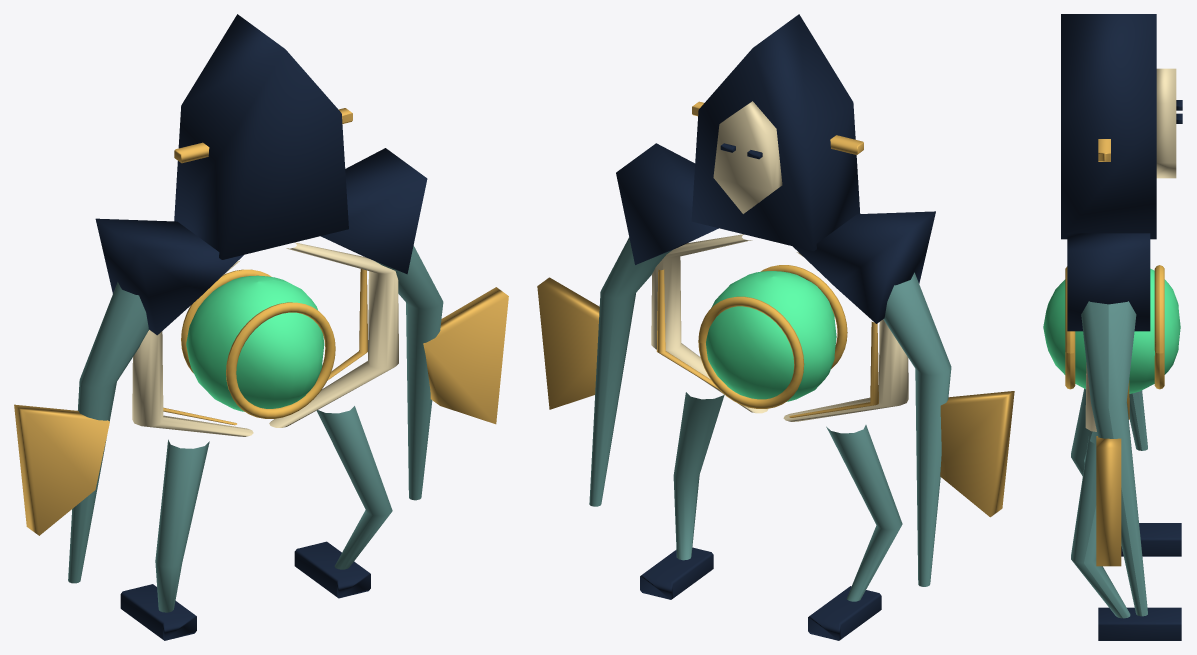
File: boss_2.glb
The picture shows the model from 3 angles, left to right: view 1: azimuth 30°, elevation 25°; view 2: azimuth 150°, elevation 25°; view 3: azimuth 270°, elevation 25°; orthographic projection. The views are drawn at different scales.
Visible parts, largest first — view 1: Hood, LanternShoulder (×2), HookBlade (×2), GlassCore, HalberdArm (×2), LongShin (×2), OpenRib (×2), Hoof (×2), GiltOrbRim (×2), GiltRib; view 2: Hood, LanternShoulder (×2), HalberdArm (×2), HookBlade (×2), GlassCore, LongShin (×2), OpenRib (×2), Mask, Hoof (×2), GiltOrbRim (×2), GiltRib (×2); view 3: Hood, HalberdArm (×2), LanternShoulder, GlassCore, LongShin (×2), Hoof (×2), HookBlade, Mask, GiltOrbRim (×2), OpenRib, HaloCross.
Part boxes in pixels (left/top/right/bottom): Hood: left=174, top=14, right=348, bottom=259; LanternShoulder (×2): left=95, top=148, right=427, bottom=335; HookBlade (×2): left=14, top=287, right=508, bottom=535; GlassCore: left=186, top=275, right=324, bottom=411; HalberdArm (×2): left=68, top=246, right=443, bottom=583; LongShin (×2): left=155, top=406, right=392, bottom=612; OpenRib (×2): left=132, top=242, right=398, bottom=436; Hoof (×2): left=120, top=541, right=370, bottom=640; GiltOrbRim (×2): left=181, top=269, right=335, bottom=418; GiltRib: left=327, top=269, right=367, bottom=380; Hood: left=691, top=14, right=860, bottom=251; LanternShoulder (×2): left=616, top=143, right=935, bottom=323; HalberdArm (×2): left=589, top=237, right=951, bottom=586; HookBlade (×2): left=537, top=277, right=1014, bottom=517; GlassCore: left=706, top=271, right=836, bottom=401; LongShin (×2): left=673, top=392, right=902, bottom=601; OpenRib (×2): left=651, top=234, right=908, bottom=421; Mask: left=713, top=101, right=782, bottom=213; Hoof (×2): left=640, top=547, right=881, bottom=640; GiltOrbRim (×2): left=698, top=265, right=847, bottom=408; GiltRib (×2): left=656, top=269, right=878, bottom=417; Hood: left=1061, top=14, right=1156, bottom=239; HalberdArm (×2): left=1081, top=301, right=1147, bottom=616; LanternShoulder: left=1067, top=233, right=1150, bottom=331; GlassCore: left=1043, top=268, right=1180, bottom=393; LongShin (×2): left=1071, top=388, right=1130, bottom=618; Hoof (×2): left=1098, top=523, right=1181, bottom=640; HookBlade: left=1096, top=436, right=1121, bottom=566; Mask: left=1156, top=68, right=1176, bottom=178; GiltOrbRim (×2): left=1065, top=265, right=1164, bottom=389; OpenRib: left=1085, top=362, right=1096, bottom=431; HaloCross: left=1098, top=139, right=1110, bottom=161.
Size of the model in its own units: 2.61 by 3 by 0.6567.
